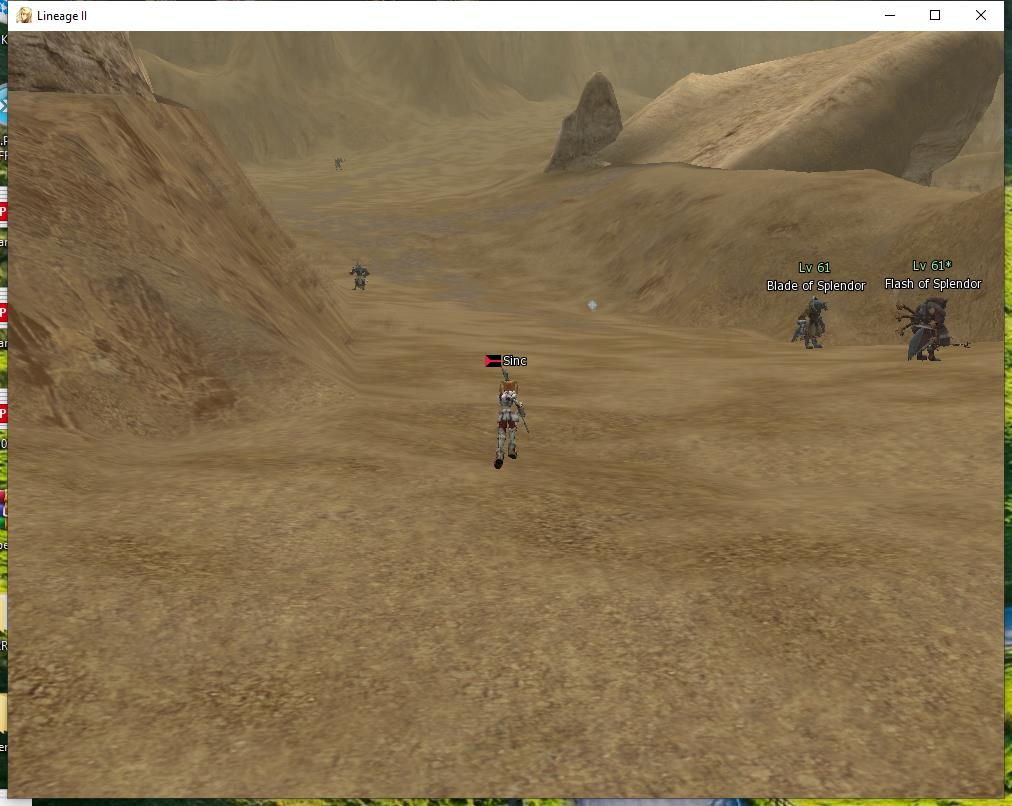monster: (878, 240, 985, 360), (769, 251, 866, 354), (349, 260, 383, 297), (334, 152, 343, 171)
